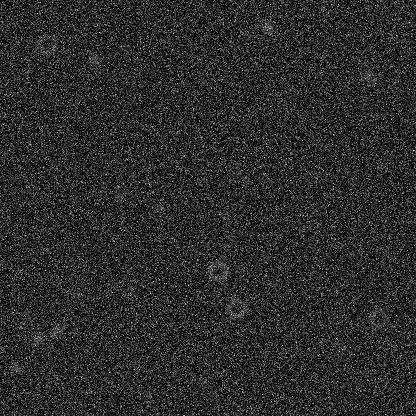Ring: (365, 306, 389, 330), (35, 32, 59, 56), (224, 296, 248, 320), (205, 258, 229, 282)
Spot: (359, 67, 375, 83), (228, 165, 244, 181), (332, 339, 348, 355), (260, 17, 276, 33), (69, 286, 85, 302), (29, 330, 45, 346), (374, 243, 390, 259), (195, 374, 211, 390), (86, 50, 102, 66), (185, 146, 201, 162), (61, 303, 77, 319), (150, 200, 166, 216), (109, 190, 125, 206), (7, 360, 23, 376), (123, 286, 139, 302), (303, 166, 319, 182), (373, 155, 389, 171), (241, 286, 257, 302), (48, 323, 64, 339)
